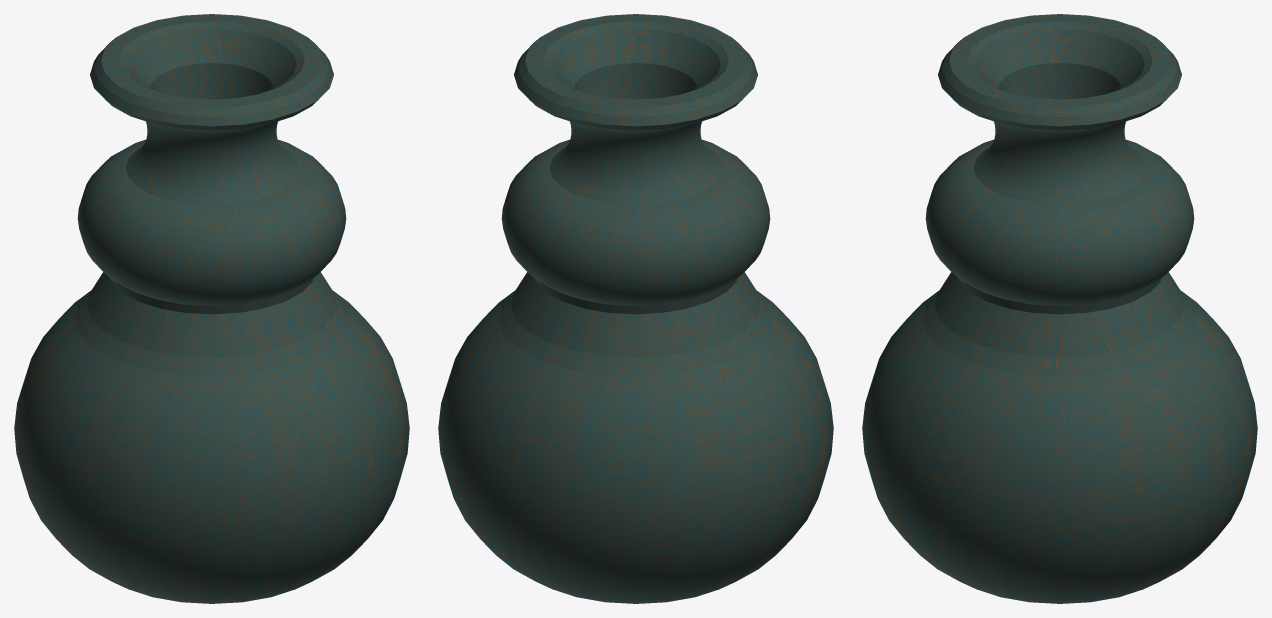
The model's file is vase5.dae.
The picture shows the model from 3 angles, left to right: view 1: azimuth 30°, elevation 25°; view 2: azimuth 150°, elevation 25°; view 3: azimuth 270°, elevation 25°; orthographic projection.
Visible parts, largest first — view 1: Vase; view 2: Vase; view 3: Vase.
Boxes of the visible parts, bbox=[...] form: Vase: bbox=[14, 14, 409, 603]; Vase: bbox=[438, 14, 833, 603]; Vase: bbox=[862, 14, 1257, 603].
Bounding box in the file's own units: 9.72 × 9.72 × 13.67.
